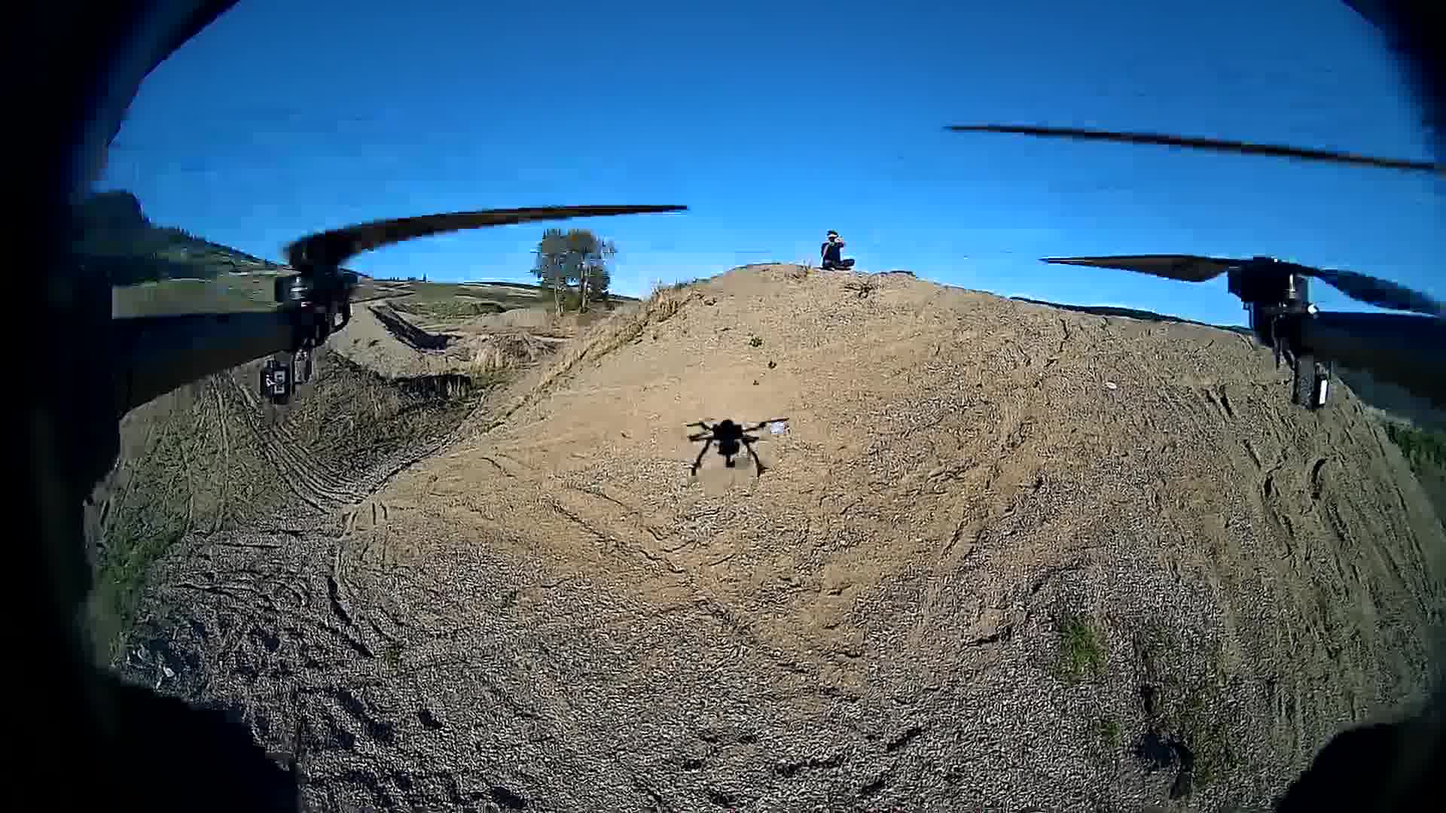Target: (767, 420, 787, 438)
